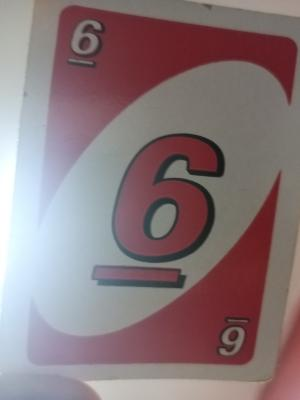num_6: (86, 126, 233, 295), (60, 8, 113, 72), (213, 308, 254, 364)
